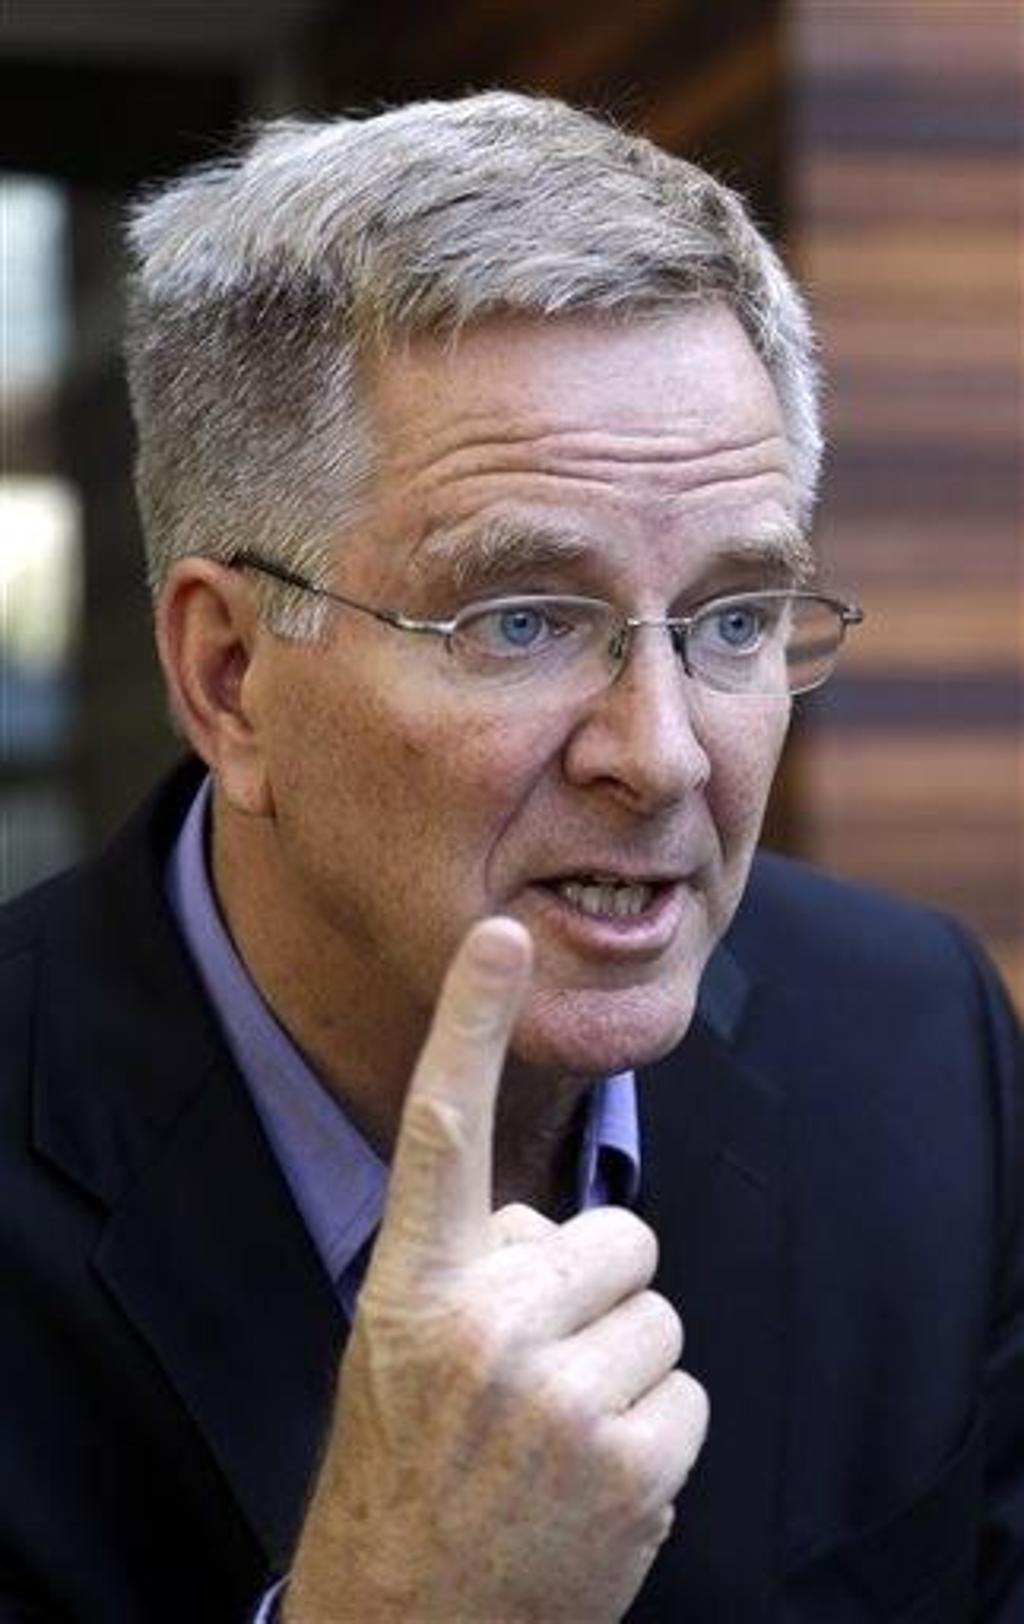face: (269, 311, 805, 1059)
